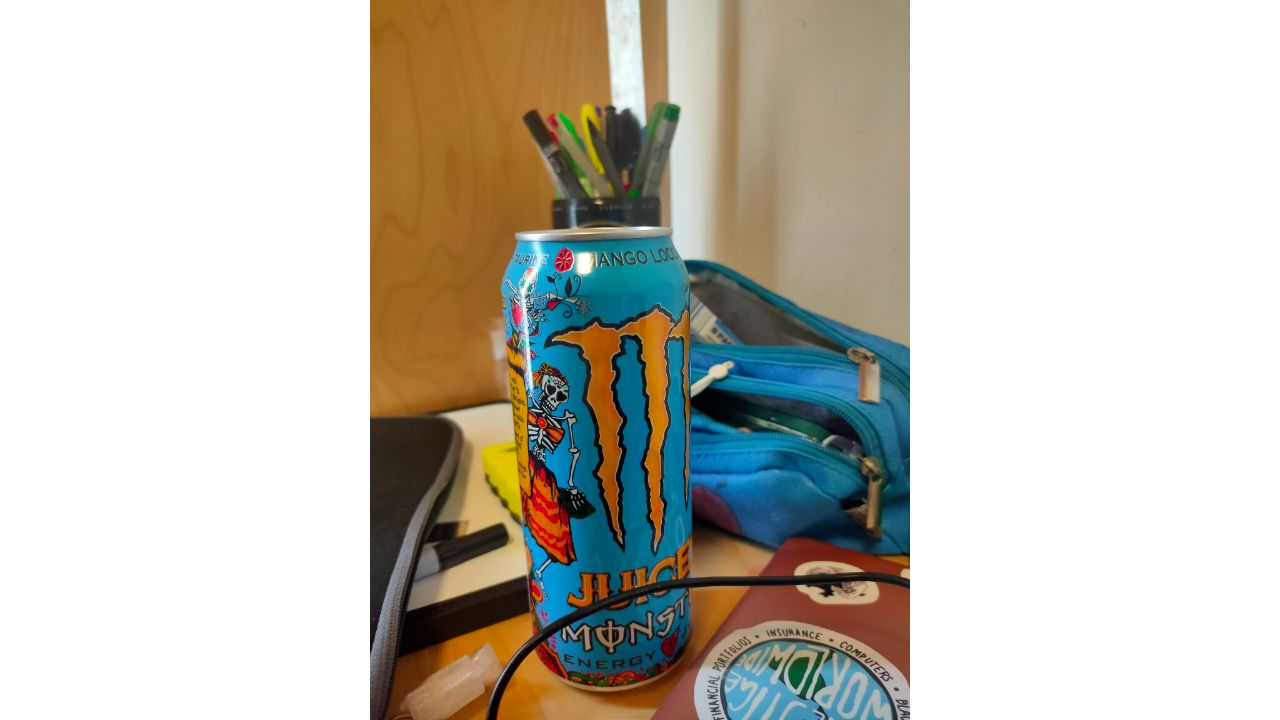Can: (502, 229, 699, 698)
